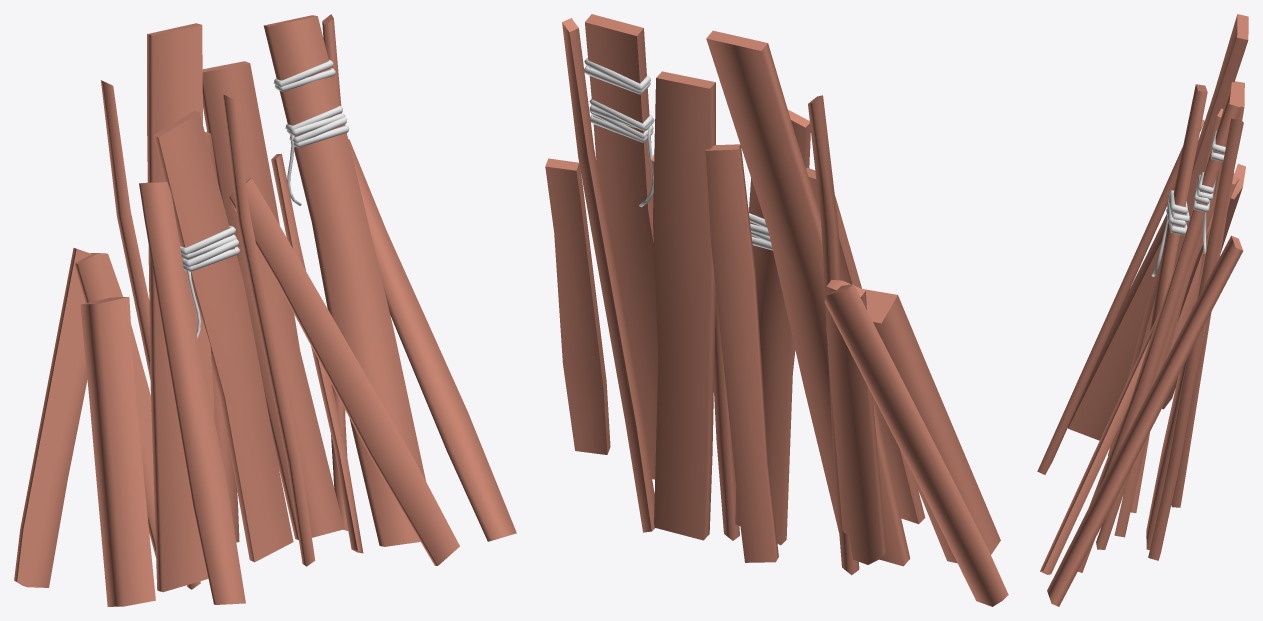
File: prop_wood_h.fbx
The picture shows the model from 3 angles, left to right: view 1: azimuth 30°, elevation 25°; view 2: azimuth 150°, elevation 25°; view 3: azimuth 270°, elevation 25°; orthographic projection. The views are drawn at different scales.
Visible parts, largest first — view 1: Cube.221, Cube.222; view 2: Cube.221, Cube.222; view 3: Cube.221, Cube.222.
Boxes of the visible parts, x1,y1,x2,y2 form: Cube.221: (14,14,516,606); Cube.222: (180,59,349,338); Cube.221: (545,14,1008,606); Cube.222: (584,57,772,250); Cube.221: (1037,14,1248,606); Cube.222: (1151,130,1225,276).
Bounding box in the file's own units: 3.25 × 3.57 × 1.42.
